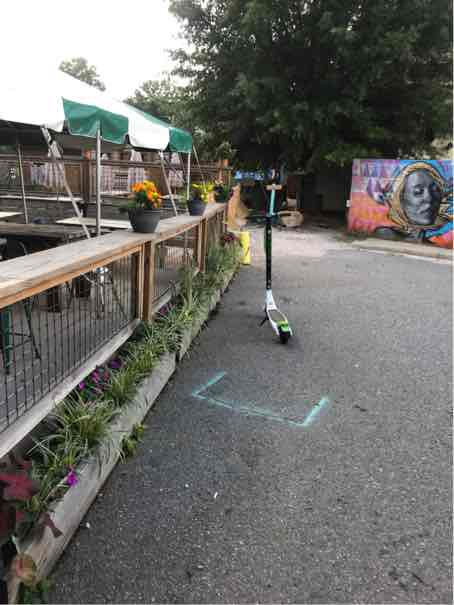scooter: (244, 180, 307, 332)
